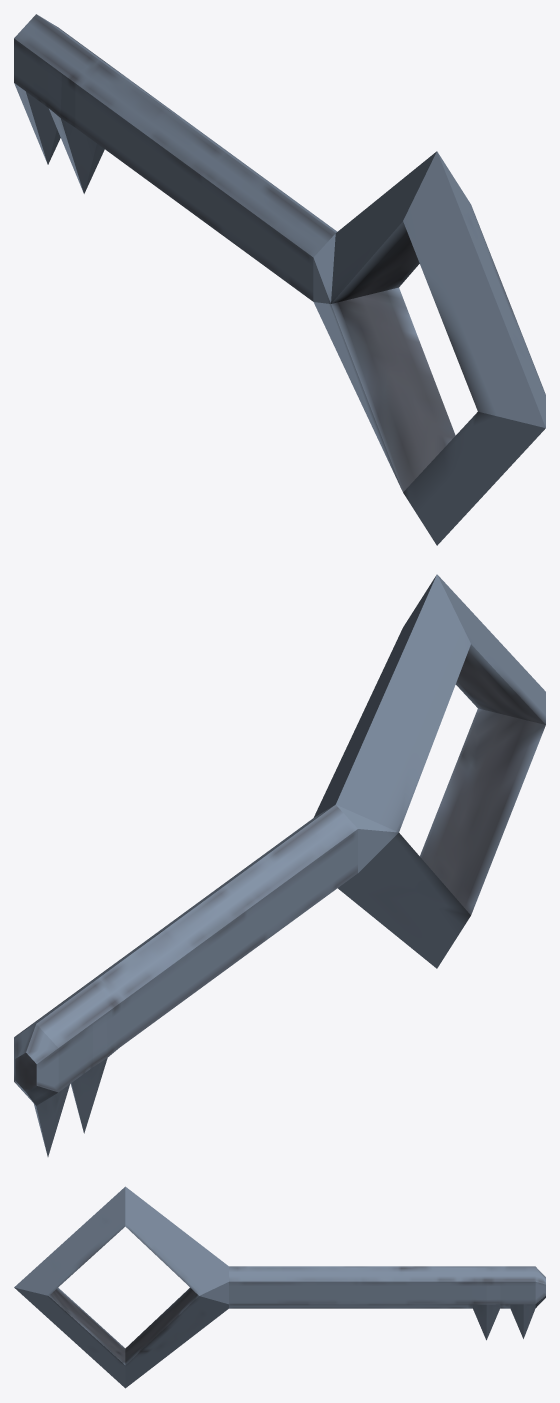
Rendered from key.fbx.
3 renders of one model, top to bottom at view 1: azimuth 30°, elevation 25°; view 2: azimuth 150°, elevation 25°; view 3: azimuth 270°, elevation 25°, orthographic. The views are drawn at different scales.
Visible parts, largest first — view 1: Torus; view 2: Torus; view 3: Torus.
Part boxes in pixels (box(x1,y1,x2,y2)): Torus: box(14, 14, 545, 545); Torus: box(14, 574, 545, 1156); Torus: box(14, 1186, 545, 1388).
Size of the model in its own units: 13.19 by 73.13 by 175.
